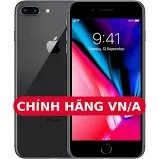iphone: (65, 1, 145, 158)
iphone8: (65, 1, 145, 159)
